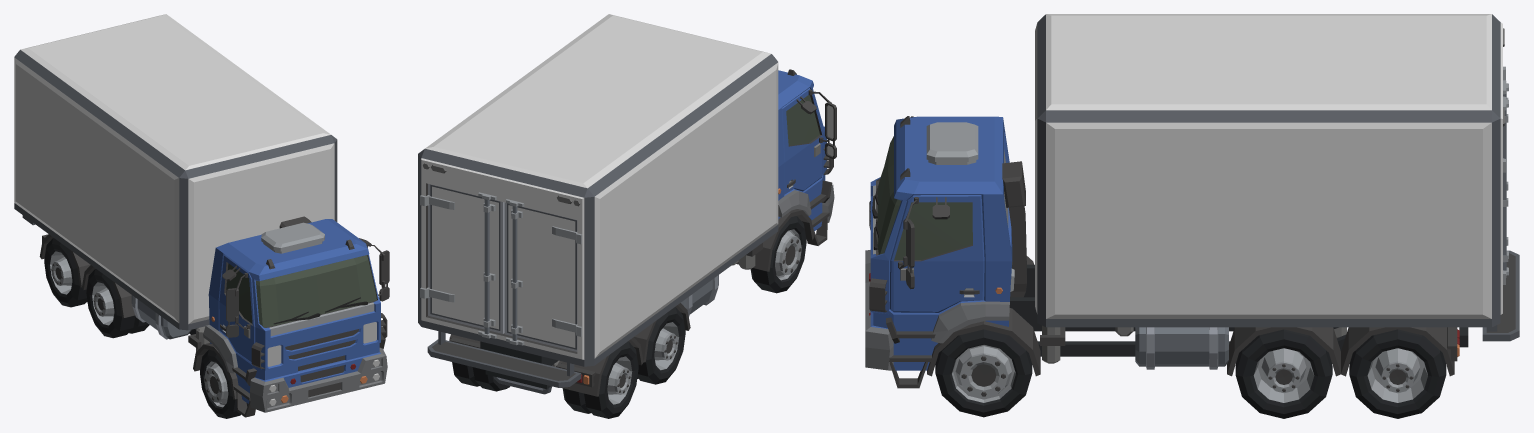
Rendered from Truck.obj.
3 renders of one model, left to right at view 1: azimuth 30°, elevation 25°; view 2: azimuth 150°, elevation 25°; view 3: azimuth 270°, elevation 25°, orthographic. The views are drawn at different scales.
Size of the model in its own units: 2.74 by 3.75 by 7.05.
1 material, 1 textured.
